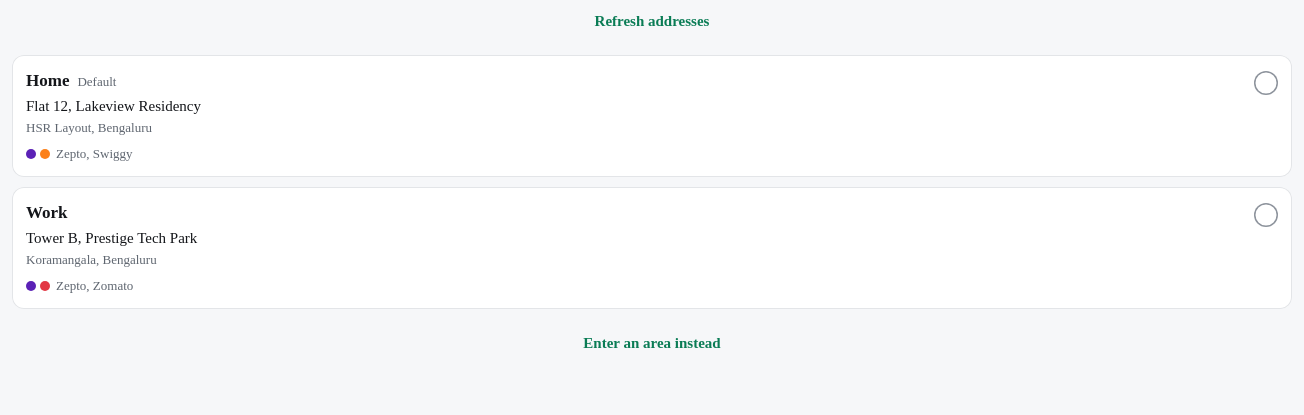
it: AddressPicker › says so when a choice cannot be saved, and keeps the list
Click the radio button that starts with "Work".
click(652, 248)  # box [12, 187, 1292, 309]
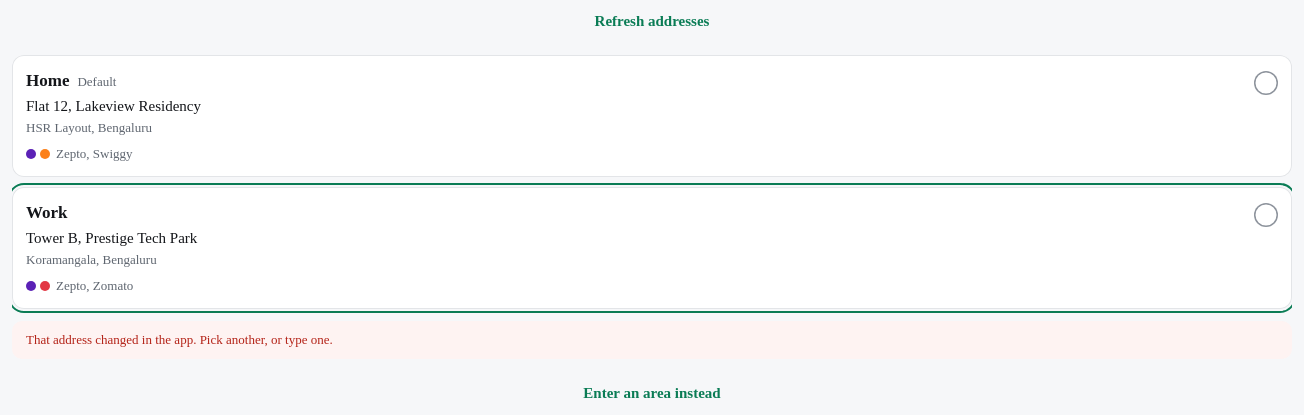
Check: the number of radio buttons is 2, box [12, 55, 1292, 177]; [12, 187, 1292, 309]
Check: the message shows "That address changed in the app", box [26, 332, 333, 347]
